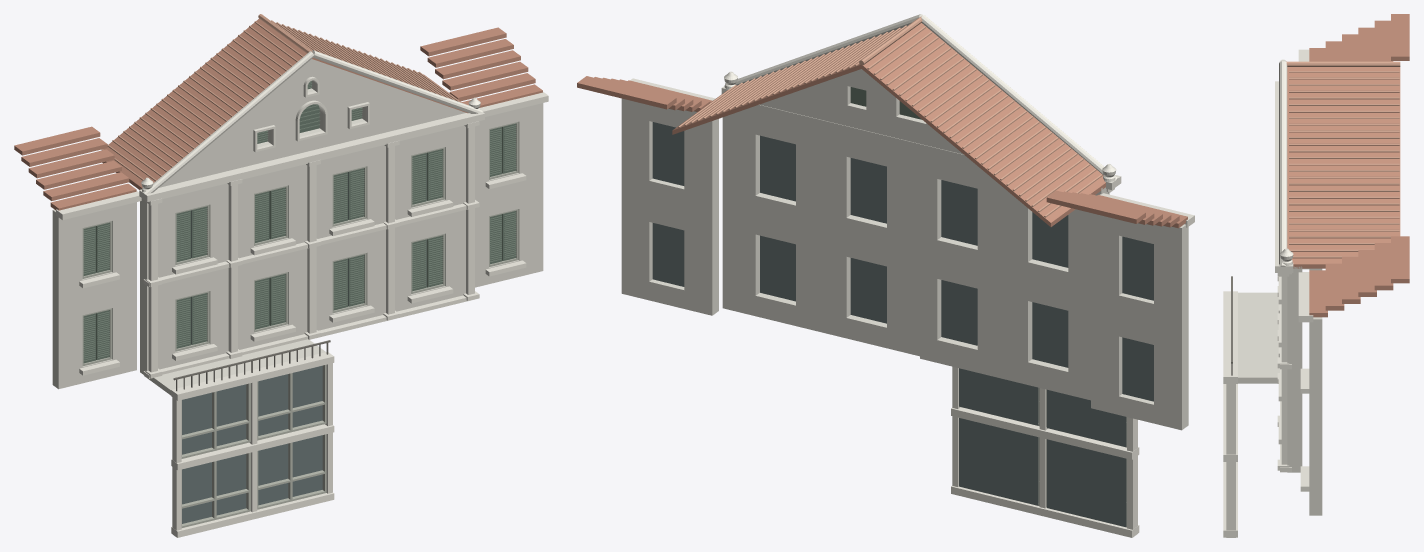
File: xuhui-zikawei-convent-central-front-raw.glb
The picture shows the model from 3 angles, left to right: view 1: azimuth 30°, elevation 25°; view 2: azimuth 150°, elevation 25°; view 3: azimuth 270°, elevation 25°; orthographic projection. The views are drawn at different scales.
Visible parts, largest first — view 1: 徐家汇圣母院旧主楼庭院中央山花立面; view 2: 徐家汇圣母院旧主楼庭院中央山花立面; view 3: 徐家汇圣母院旧主楼庭院中央山花立面.
Boxes of the visible parts, x1,y1,x2,y2 form: 徐家汇圣母院旧主楼庭院中央山花立面: (14, 14, 548, 537); 徐家汇圣母院旧主楼庭院中央山花立面: (577, 14, 1194, 537); 徐家汇圣母院旧主楼庭院中央山花立面: (1223, 14, 1409, 537).
Bounding box in the file's own units: 20.06 × 16.89 × 5.93.
